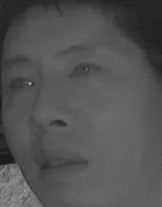eye: (68, 60, 102, 84), (6, 75, 38, 94)
mouth: (34, 148, 87, 182)
